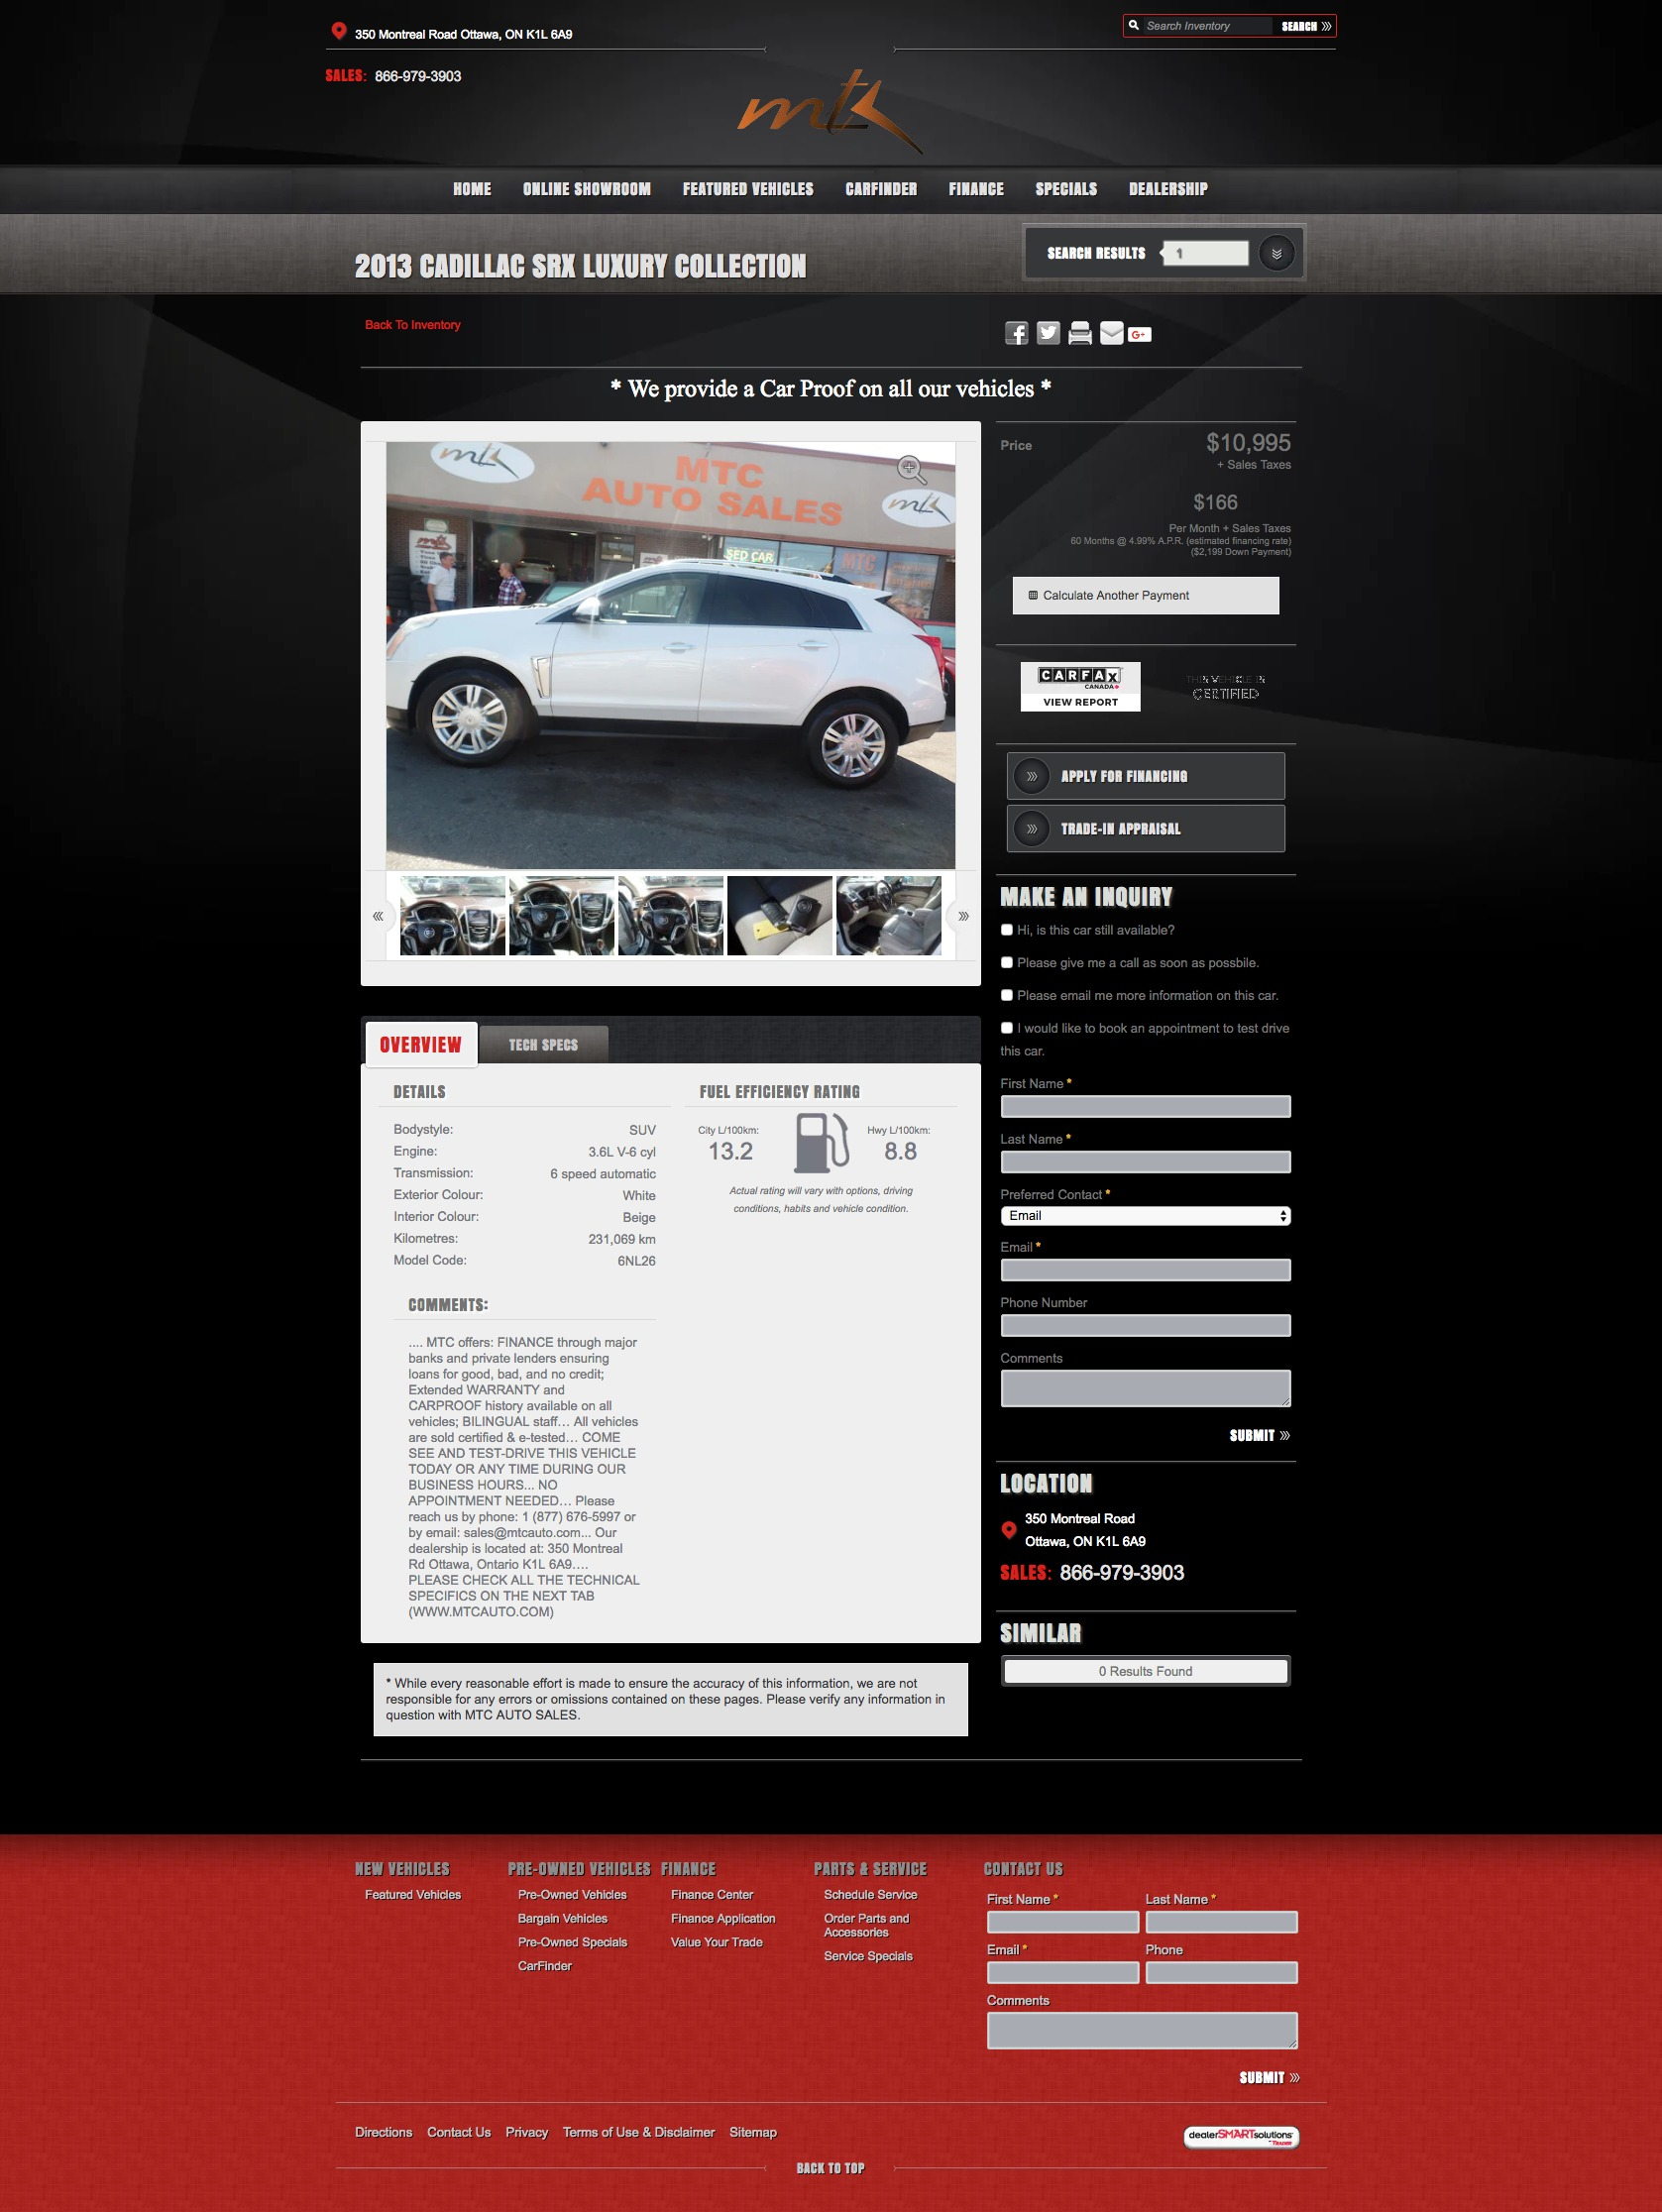car: (958, 911, 971, 924)
